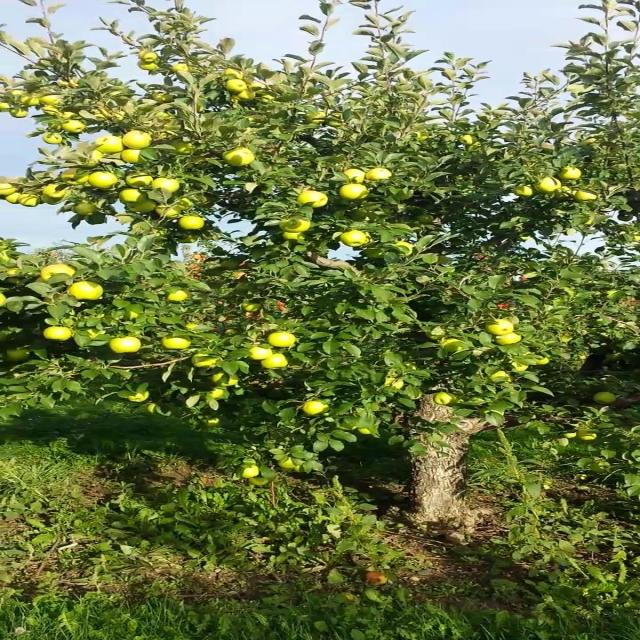apple: (227, 148, 256, 168), (70, 284, 105, 300), (92, 172, 121, 190), (269, 332, 299, 348), (340, 232, 370, 248), (340, 184, 370, 200), (99, 136, 124, 155), (298, 192, 327, 208), (127, 172, 155, 188), (212, 372, 240, 388), (63, 172, 91, 186), (127, 132, 151, 148), (490, 320, 514, 336), (113, 340, 142, 353), (127, 200, 156, 213), (262, 356, 290, 369), (284, 220, 313, 232), (42, 268, 76, 278), (532, 180, 560, 192), (84, 152, 105, 168), (184, 216, 206, 231), (163, 340, 192, 351), (156, 180, 180, 193), (63, 120, 85, 134), (120, 152, 144, 164), (305, 404, 329, 416), (6, 352, 30, 364), (440, 340, 464, 352), (42, 184, 66, 196), (561, 168, 583, 181), (120, 192, 146, 203), (596, 392, 619, 404), (49, 328, 71, 340), (369, 168, 391, 180), (248, 348, 270, 360), (248, 476, 270, 488), (227, 80, 249, 92), (198, 356, 220, 368), (305, 112, 327, 124), (42, 192, 64, 204), (20, 96, 43, 107), (77, 204, 98, 216), (20, 196, 41, 208), (127, 392, 149, 403), (575, 192, 597, 203), (362, 248, 384, 259), (554, 188, 576, 199), (348, 172, 368, 184), (177, 144, 197, 156), (227, 68, 247, 80), (326, 116, 345, 128), (163, 208, 183, 219), (170, 292, 190, 303), (497, 336, 521, 345), (156, 92, 174, 104), (241, 468, 261, 478), (433, 396, 455, 405), (490, 372, 512, 381), (92, 152, 105, 167), (284, 232, 304, 241), (397, 244, 412, 256), (397, 188, 412, 200), (42, 136, 64, 144), (42, 196, 64, 204), (6, 184, 21, 195), (141, 52, 158, 61), (461, 136, 478, 145), (390, 380, 405, 390), (42, 96, 60, 104), (518, 188, 535, 196), (141, 64, 158, 72), (511, 364, 528, 372), (241, 92, 256, 101), (177, 200, 192, 209), (6, 268, 21, 277), (212, 392, 228, 400), (596, 464, 612, 472), (248, 304, 263, 312), (6, 196, 21, 204), (205, 420, 220, 428), (582, 432, 597, 440), (262, 96, 277, 104), (92, 216, 107, 224), (127, 312, 142, 320), (120, 216, 135, 224), (42, 108, 57, 116), (419, 216, 434, 224), (177, 64, 190, 73), (284, 460, 297, 469), (148, 404, 158, 415), (419, 132, 430, 142), (13, 112, 28, 119), (184, 324, 199, 331), (604, 292, 619, 299), (561, 336, 574, 344), (63, 112, 76, 119), (532, 360, 549, 365), (582, 220, 596, 226), (568, 432, 578, 440), (362, 428, 372, 436), (92, 332, 103, 339)
